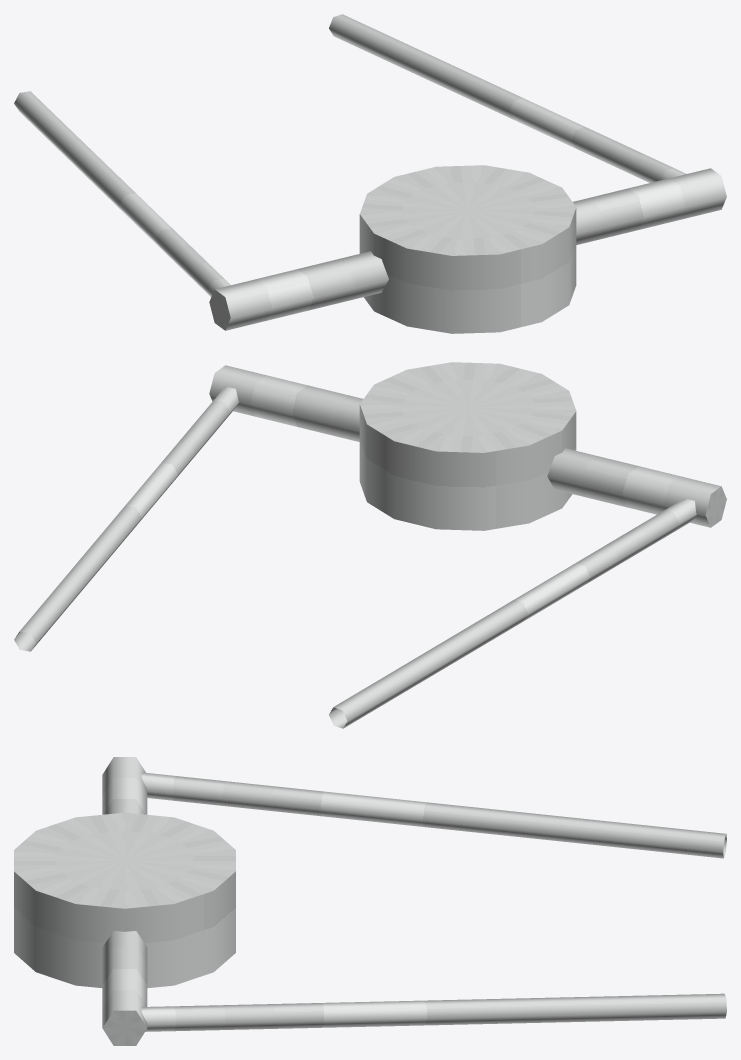
File: nycsignalarm_regular4_c0_thin.obj
The picture shows the model from 3 angles, top to bottom: view 1: azimuth 30°, elevation 25°; view 2: azimuth 150°, elevation 25°; view 3: azimuth 270°, elevation 25°; orthographic projection. The views are drawn at different scales.
Visible parts, largest first — view 1: nycsignalarm_regular4_c0_thin; view 2: nycsignalarm_regular4_c0_thin; view 3: nycsignalarm_regular4_c0_thin.
Part boxes in pixels (x1,y1,x2,y2): nycsignalarm_regular4_c0_thin: (14,14,726,333); nycsignalarm_regular4_c0_thin: (14,362,726,728); nycsignalarm_regular4_c0_thin: (14,757,726,1045).
Size of the model in its own units: 1.5 by 0.225 by 1.78.
